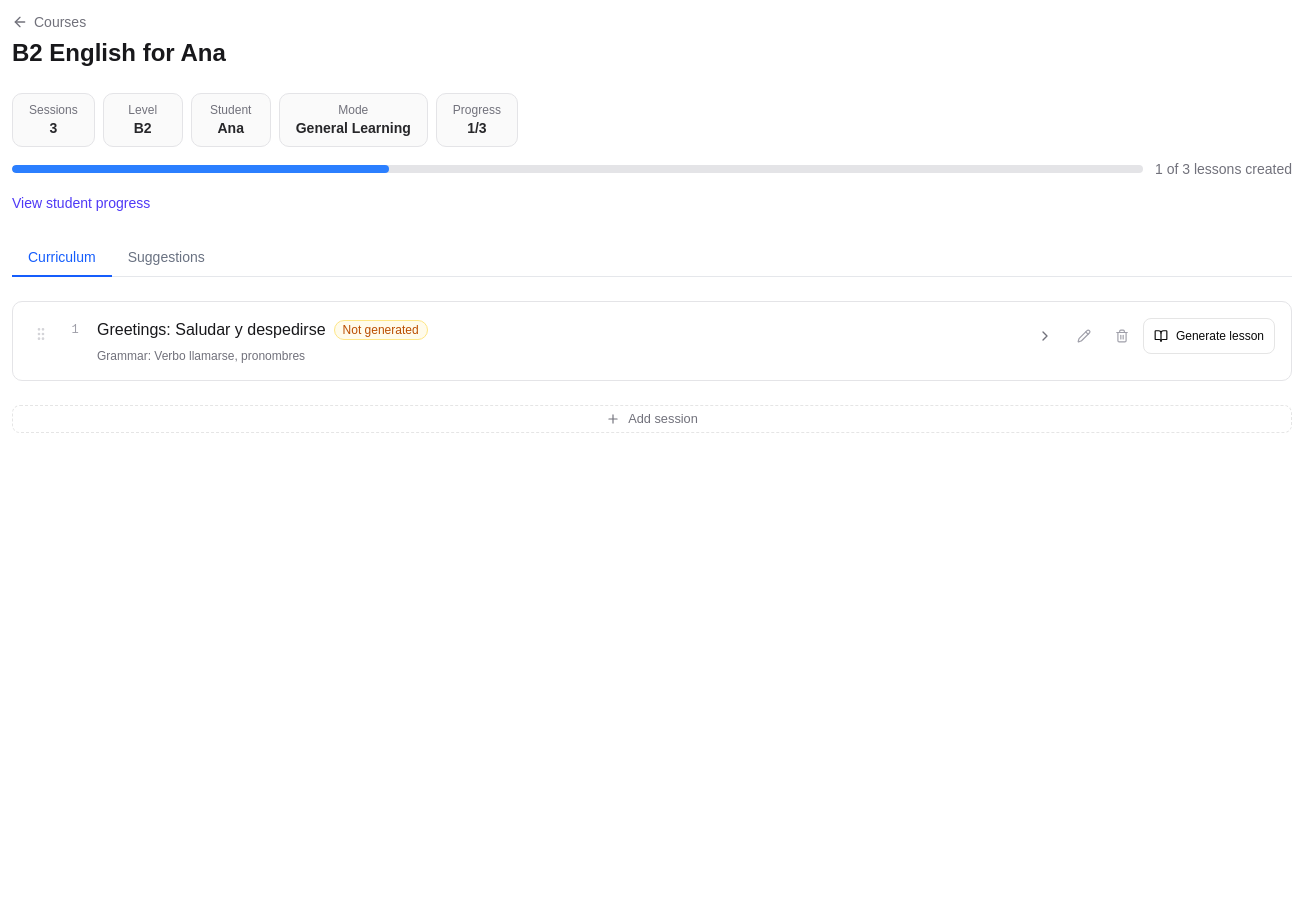
CourseDetail › expand toggle collapses when clicked again
Check: the heading "B2 English for Ana" is shown, box [12, 37, 226, 69]
Click the button with test id "expand-entry-0" at (1045, 336), box [1027, 318, 1063, 354]
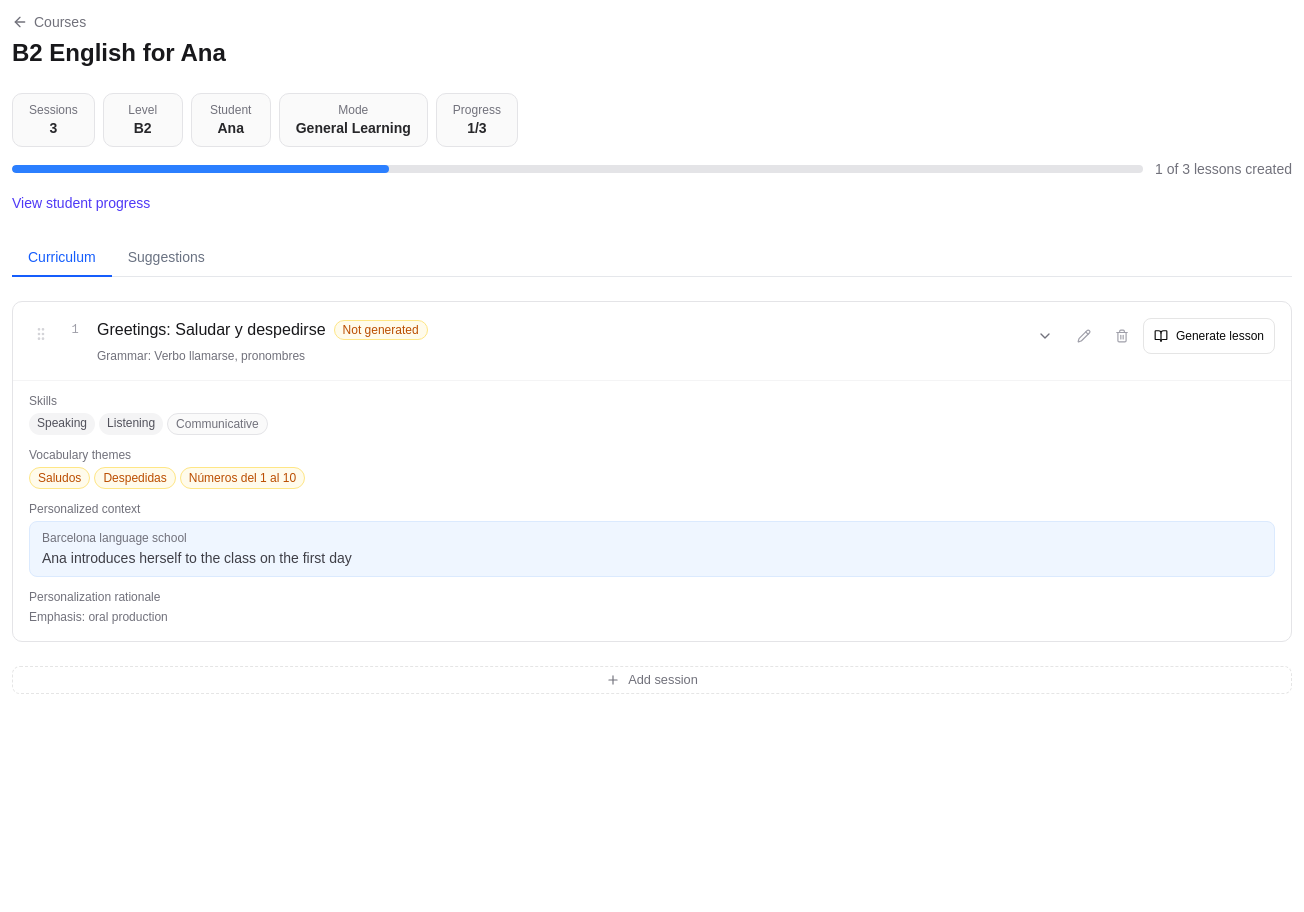
Check: the element with test id "entry-details-0" is shown, box [13, 380, 1291, 641]
Click the button with test id "expand-entry-0" at (1045, 336), box [1027, 318, 1063, 354]
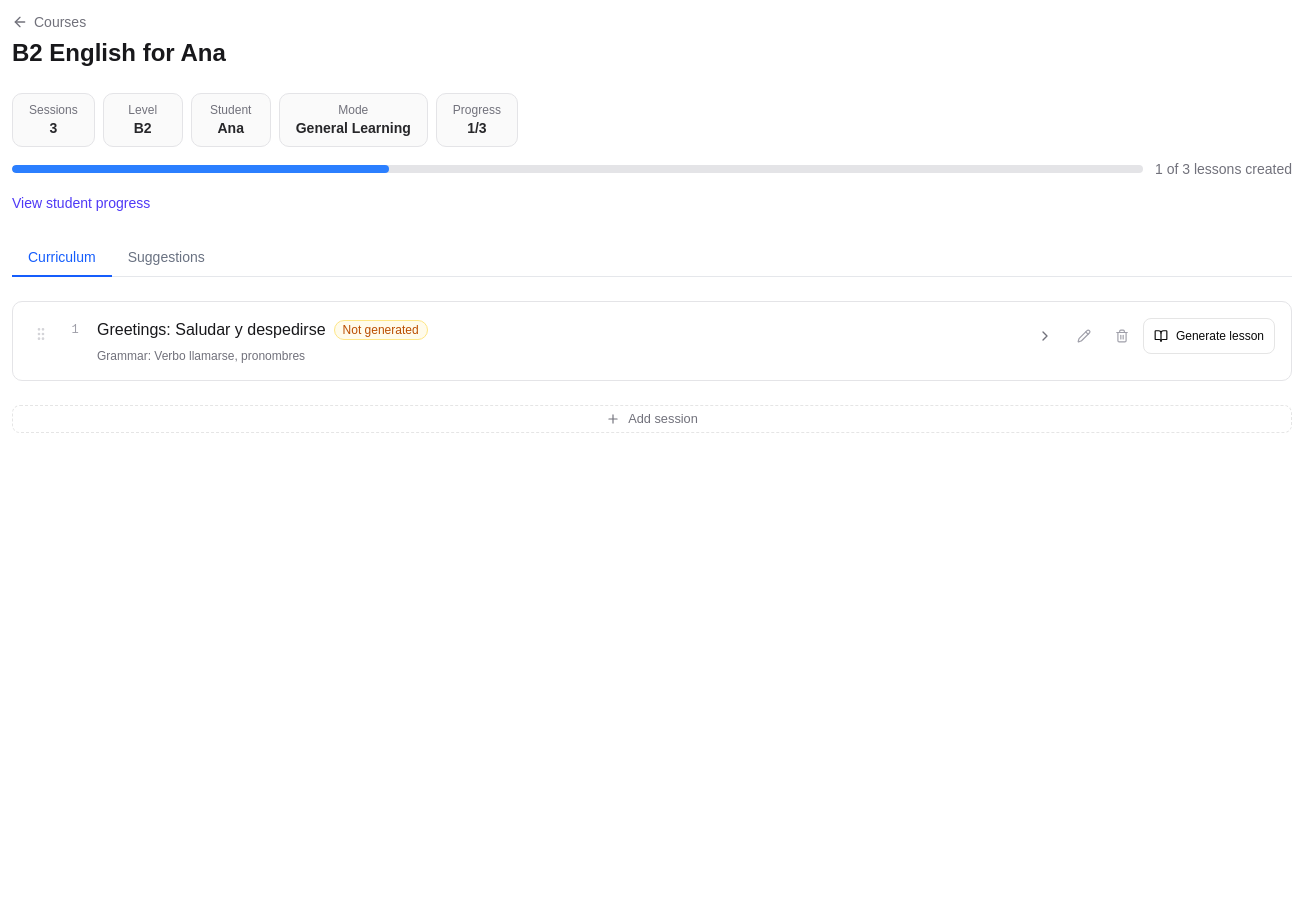
Check: the element with test id "entry-details-0" is gone
